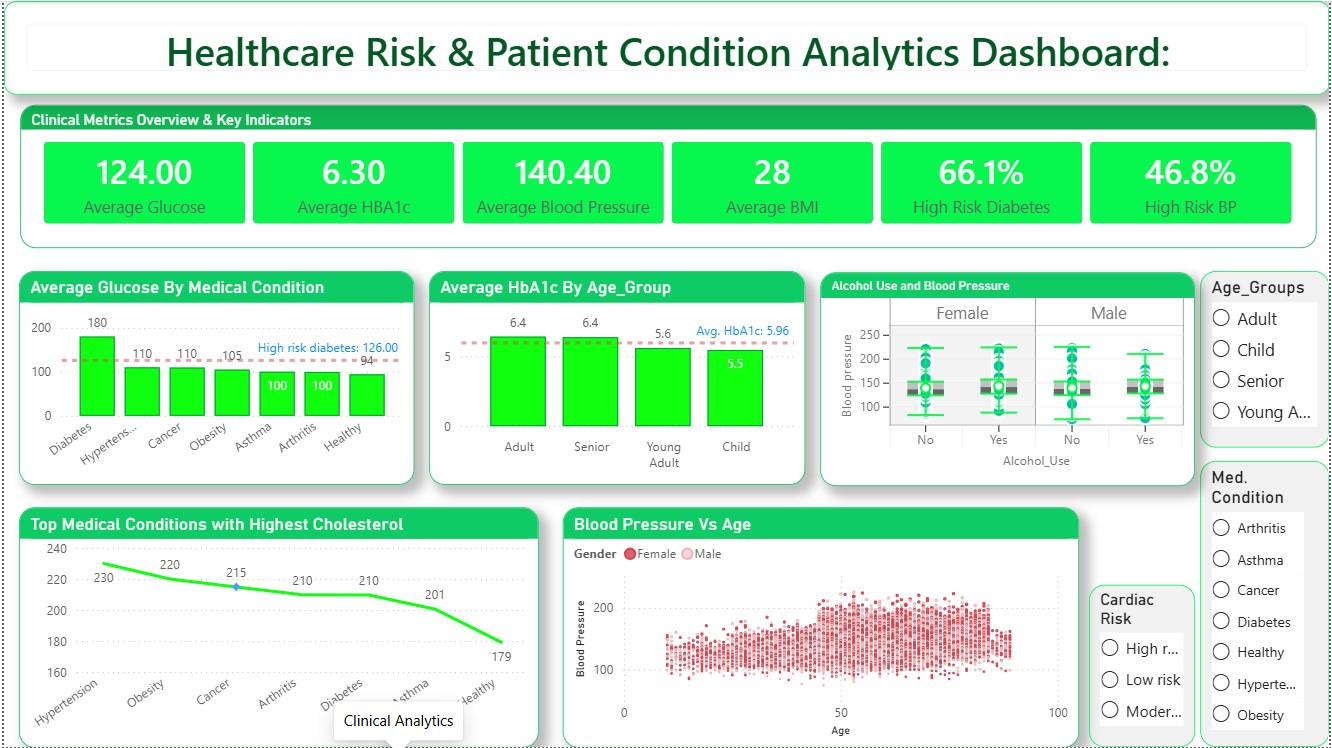

What the dashboard file says about the page in this screenshot:
{"tool":"powerbi","page":{"name":"Clinical Analytics","canvas":[1280,720],"ordinal":1},"visuals":[{"type":"cardVisual","title":"Clinical Metrics Overview & Key Indicators","fields":{"Data":["MEASURES_Table.m_Average_Glucose","MEASURES_Table.m_Average_HBA1c","MEASURES_Table.m_Average_BloodPressure","MEASURES_Table.m_Average_BMI","MEASURES_Table.m_HighRisk Diabetes%","MEASURES_Table.m_HighRisk_BP%"]},"box":[15.7,100.1,1251.1,138.7],"z":0},{"type":"clusteredColumnChart","title":"Average Glucose By Medical Condition","fields":{"Y":["MEASURES_Table.m_Average_Glucose"],"Category":["DIM_MedicalCondition.Medical Condition"]},"box":[15,260.8,381.9,206.5],"z":2000},{"type":"clusteredColumnChart","title":"Average HbA1c By Age_Group","fields":{"Y":["MEASURES_Table.m_Average_HBA1c"],"Category":["DIM_AgeGroups.Age_Groups"]},"box":[409.6,260.8,363.5,206.5],"z":3000},{"type":"lineChart","title":"Top Medical Conditions with Highest Cholesterol","fields":{"Y":["MEASURES_Table.m_Average_Cholesterol"],"Category":["DIM_MedicalCondition.Medical Condition"]},"box":[15,488.1,501.9,231.9],"z":4000},{"type":"scatterChart","title":"Blood Pressure Vs Age","fields":{"Y":["MEASURES_Table.m_Avg_BP_EXP"],"X":["MEASURES_Table.m_Avg_Age_EXP"],"Size":["Avg(Expanded_Table.Blood Pressure)"],"Category":["Expanded_Table.PT_Index"],"Series":["Expanded_Table.Gender"]},"box":[538.8,488.1,498.5,231.9],"z":5000},{"type":"listSlicer","fields":{"Values":["DIM_AgeGroups.Age_Groups"]},"box":[1155,260.8,124.6,170.8],"z":6000},{"type":"listSlicer","fields":{"Values":["DIM_MedicalCondition.Medical Condition"]},"box":[1155,444.2,124.6,275.8],"z":7000},{"type":"listSlicer","title":"Cardiac Risk","fields":{"Values":["FACT_Healthdata.Cardiac_Risk_categories"]},"box":[1047.2,563.4,102.5,156.8],"z":8000},{"type":"BoxandWhiskerByMAQ1823AD39DT234AB532063E128AX","title":"Alcohol Use and Blood Pressure","fields":{"categoryGroup":["Expanded_Table.Alcohol_Use"],"measure":["MEASURES_Table.m_Average_BloodPressure"],"category":["FACT_Healthdata.PT_Index"],"xCategoryParent":["FACT_Healthdata.Gender"]},"box":[787.8,261.8,361.9,206.3],"z":9000},{"type":"cardVisual","fields":{"Data":["MEASURES_Table.dT_Main"]},"box":[0,0,1280,90.5],"z":10000}]}

Visuals, with their boxes in screenshot pixels (x1, y1, x2, y2), scaled from the page's 1280x720 canvas onto the 1332x748 screenshot:
"Clinical Metrics Overview & Key Indicators" cardVisual: [x1=16, y1=104, x2=1318, y2=248]
"Average Glucose By Medical Condition" clusteredColumnChart: [x1=16, y1=271, x2=413, y2=485]
"Average HbA1c By Age_Group" clusteredColumnChart: [x1=426, y1=271, x2=805, y2=485]
"Top Medical Conditions with Highest Cholesterol" lineChart: [x1=16, y1=507, x2=538, y2=747]
"Blood Pressure Vs Age" scatterChart: [x1=561, y1=507, x2=1079, y2=747]
listSlicer - DIM_AgeGroups.Age_Groups: [x1=1202, y1=271, x2=1331, y2=448]
listSlicer - DIM_MedicalCondition.Medical Condition: [x1=1202, y1=461, x2=1331, y2=747]
"Cardiac Risk" listSlicer: [x1=1090, y1=585, x2=1196, y2=747]
"Alcohol Use and Blood Pressure" BoxandWhiskerByMAQ1823AD39DT234AB532063E128AX: [x1=820, y1=272, x2=1196, y2=486]
cardVisual - MEASURES_Table.dT_Main: [x1=0, y1=0, x2=1331, y2=94]
